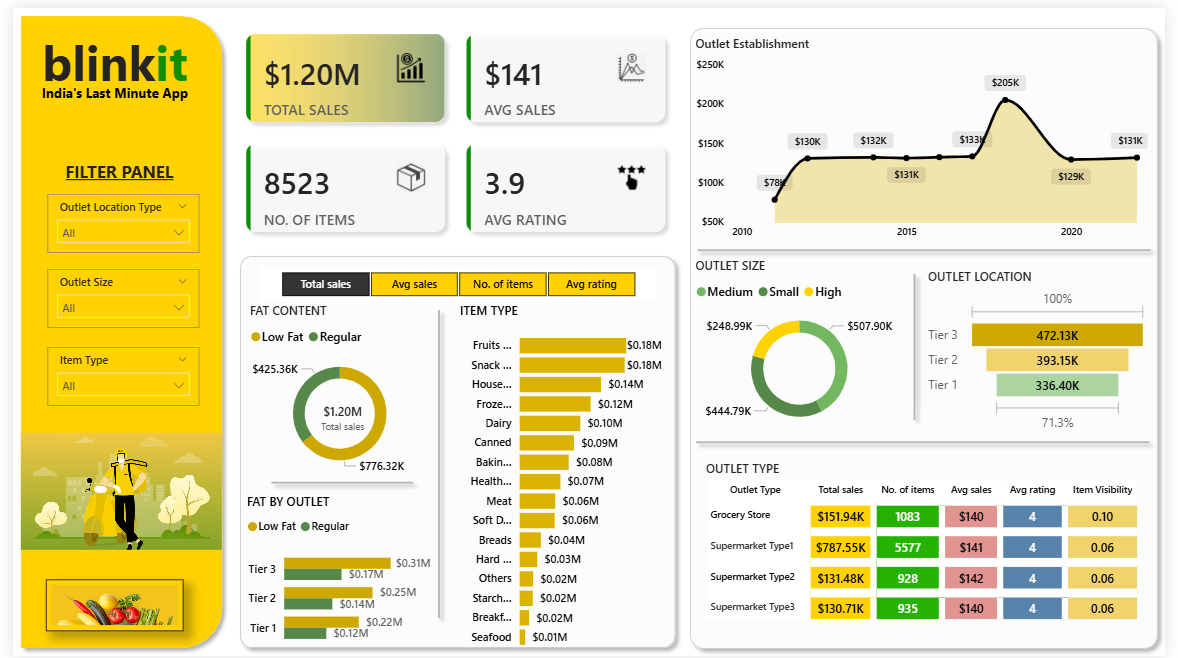

This screenshot's page, from the dashboard's own definition file:
{"tool":"powerbi","page":{"name":"Page 1","canvas":[1280,720],"ordinal":0},"visuals":[{"type":"shape","box":[0,0,241.4,720],"z":0},{"type":"textbox","box":[8.3,78.3,210,33.3],"z":1000},{"type":"textbox","box":[3.3,18.3,220,96.7],"z":2000},{"type":"cardVisual","fields":{"Data":["BlinkIT Grocery Data.Total sales","BlinkIT Grocery Data.avg sales","BlinkIT Grocery Data.Number of itesm","BlinkIT Grocery Data.Avg rating"]},"box":[241.7,11.7,501.7,255],"z":3000},{"type":"shape","box":[243.3,266.7,501.7,453.3],"z":4000},{"type":"slicer","fields":{"Values":["Metrics.Metrics"]},"box":[273.3,286.7,441.7,40],"z":5000},{"type":"donutChart","title":"FAT CONTENT ","fields":{"Category":["BlinkIT Grocery Data.Item Fat Content"],"Y":["BlinkIT Grocery Data.Total sales"]},"box":[258.8,326.2,208.8,200],"z":6000},{"type":"cardVisual","fields":{"Data":["BlinkIT Grocery Data.Total sales"]},"box":[323.3,421.7,86.7,55],"z":7000},{"type":"clusteredBarChart","title":"FAT BY OUTLET ","fields":{"Y":["BlinkIT Grocery Data.Total sales"],"Category":["BlinkIT Grocery Data.Outlet Location Type"],"Series":["BlinkIT Grocery Data.Item Fat Content"]},"box":[254.5,538.2,213.6,181.8],"z":8000},{"type":"shape","box":[278.4,489.9,175,74.8],"z":9000},{"type":"shape","box":[993.3,286.7,16.7,161.7],"z":10000},{"type":"barChart","title":"ITEM TYPE","fields":{"Y":["BlinkIT Grocery Data.Total sales"],"Category":["BlinkIT Grocery Data.Item Type"]},"box":[491.5,326.1,233.8,394.5],"z":11000},{"type":"shape","box":[742.8,12.7,537.6,707.8],"z":12000},{"type":"lineChart","title":"Outlet Establishment","fields":{"Y":["BlinkIT Grocery Data.Total sales"],"Category":["BlinkIT Grocery Data.Outlet Establishment Year"]},"box":[753.9,30.2,512.2,235.4],"z":13000},{"type":"shape","box":[751.7,231.7,521.7,75],"z":14000},{"type":"donutChart","title":"OUTLET SIZE","fields":{"Category":["BlinkIT Grocery Data.Outlet Size"],"Y":["BlinkIT Grocery Data.Total sales"]},"box":[753.3,276.7,240,200],"z":15000},{"type":"shape","box":[461.7,326.7,23.3,360],"z":16000},{"type":"shape","box":[990,286.7,23.3,180],"z":17000},{"type":"funnel","title":"OUTLET LOCATION","fields":{"Y":["Sum(BlinkIT Grocery Data.Sales)"],"Category":["BlinkIT Grocery Data.Outlet Location Type"]},"box":[1011.7,288.3,253.3,186.7],"z":18000},{"type":"shape","box":[750,445,521.7,75],"z":19000},{"type":"pivotTable","title":"OUTLET TYPE","fields":{"Rows":["BlinkIT Grocery Data.Outlet Type"],"Values":["BlinkIT Grocery Data.Total sales","BlinkIT Grocery Data.No. of items","BlinkIT Grocery Data.Avg sales","BlinkIT Grocery Data.Avg rating","Avg(BlinkIT Grocery Data.Item Visibility)"]},"box":[765,501.7,490,200],"z":20000},{"type":"slicer","fields":{"Values":["BlinkIT Grocery Data.Outlet Location Type"]},"box":[38.3,206.7,168.3,65],"z":21000},{"type":"slicer","fields":{"Values":["BlinkIT Grocery Data.Outlet Size"]},"box":[38.3,290,168.3,65],"z":22000},{"type":"slicer","fields":{"Values":["BlinkIT Grocery Data.Item Type"]},"box":[38.3,376.7,168.3,65],"z":23000},{"type":"textbox","box":[53.3,163.3,141.7,40],"z":24000},{"type":"image","box":[4,476,234,202],"z":24001}]}

Visuals, with their boxes in screenshot pixels (x1, y1, x2, y2), scaled from the page's 1280x720 canvas onto the 1178x658 screenshot:
shape: (0,0,222,657)
textbox: (8,72,201,102)
textbox: (3,17,206,105)
cardVisual - BlinkIT Grocery Data.Total sales x BlinkIT Grocery Data.avg sales: (222,11,684,244)
shape: (224,244,686,657)
slicer - Metrics.Metrics: (252,262,658,299)
"FAT CONTENT " donutChart: (238,298,430,481)
cardVisual - BlinkIT Grocery Data.Total sales: (298,385,377,436)
"FAT BY OUTLET " clusteredBarChart: (234,492,431,657)
shape: (256,448,417,516)
shape: (914,262,930,410)
"ITEM TYPE" barChart: (452,298,668,657)
shape: (684,12,1177,657)
"Outlet Establishment" lineChart: (694,28,1165,243)
shape: (692,212,1172,280)
"OUTLET SIZE" donutChart: (693,253,914,436)
shape: (425,299,446,628)
shape: (911,262,933,427)
"OUTLET LOCATION" funnel: (931,263,1164,434)
shape: (690,407,1170,475)
"OUTLET TYPE" pivotTable: (704,458,1155,641)
slicer - BlinkIT Grocery Data.Outlet Location Type: (35,189,190,248)
slicer - BlinkIT Grocery Data.Outlet Size: (35,265,190,324)
slicer - BlinkIT Grocery Data.Item Type: (35,344,190,404)
textbox: (49,149,179,186)
image: (4,435,219,620)
